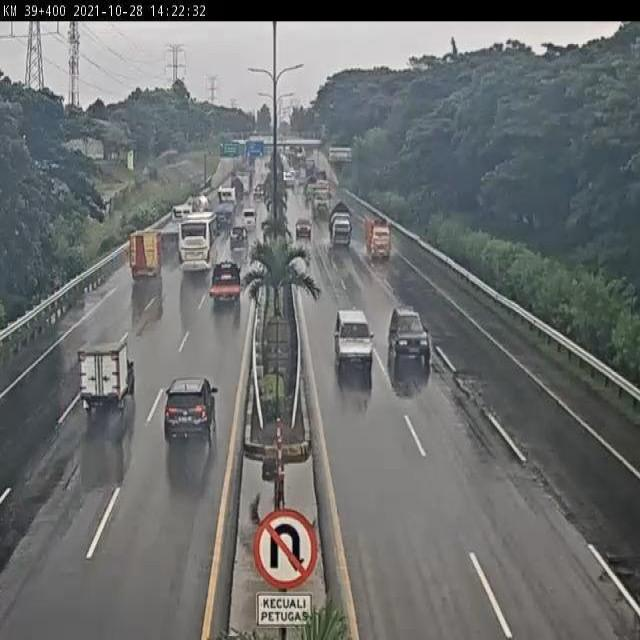big bus: (178, 211, 220, 269)
big truck: (129, 227, 163, 277), (213, 184, 236, 223)
car: (163, 375, 218, 448), (331, 302, 375, 389), (389, 302, 431, 369), (211, 254, 242, 298), (228, 228, 250, 257), (295, 219, 313, 241), (243, 205, 258, 227), (251, 186, 264, 206)
small truck: (77, 338, 142, 413), (362, 210, 394, 258), (166, 203, 196, 237), (330, 206, 351, 250), (230, 171, 251, 204)
